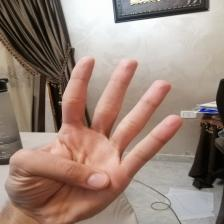four: (12, 50, 183, 212)
